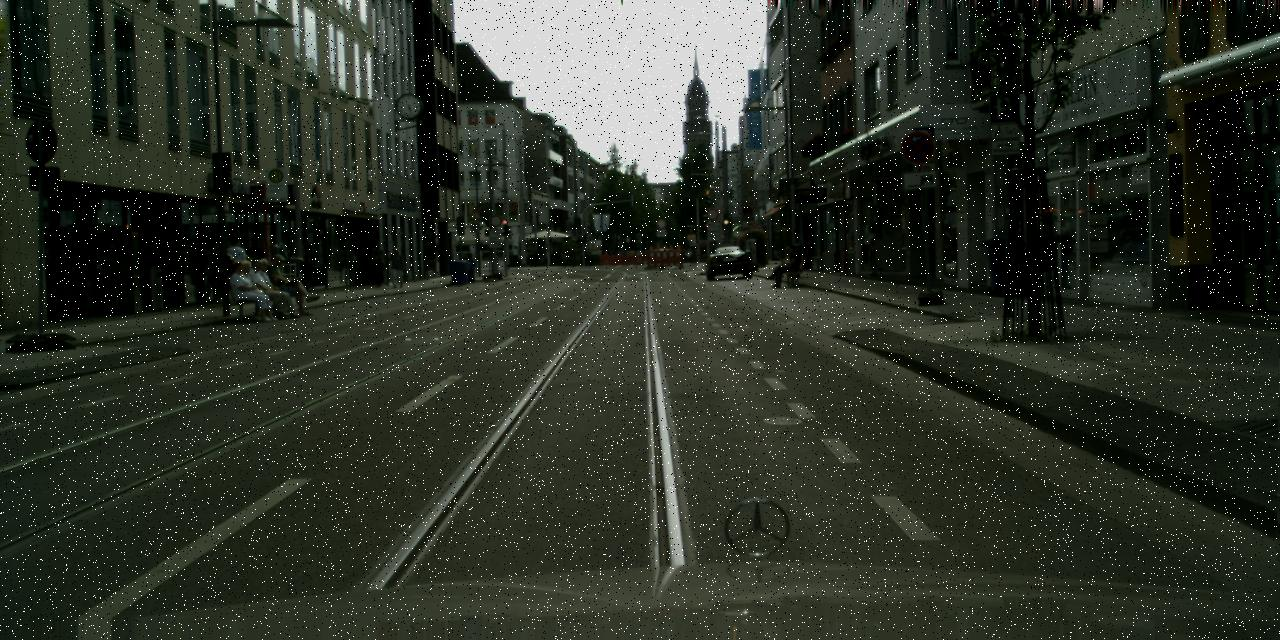ped: (228, 236, 321, 322), (765, 243, 802, 289), (369, 242, 387, 286), (388, 247, 404, 287)
